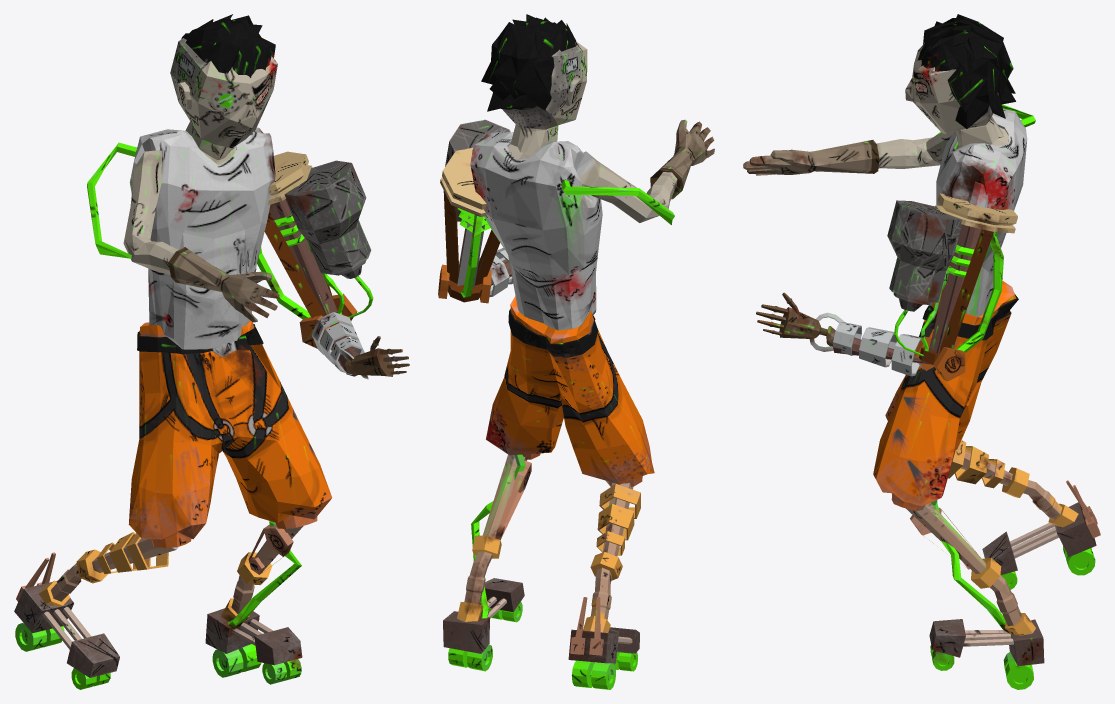
File: CyborgFINALAnimation_000016.obj
3 renders of one model, left to right at view 1: azimuth 30°, elevation 25°; view 2: azimuth 150°, elevation 25°; view 3: azimuth 270°, elevation 25°, orthographic. The views are drawn at different scales.
Parts seen in each view (by area): view 1: CyborgMesh_Cube.002; view 2: CyborgMesh_Cube.002; view 3: CyborgMesh_Cube.002.
Part boxes in pixels (x1,y1,x2,y2): CyborgMesh_Cube.002: (14, 14, 409, 689); CyborgMesh_Cube.002: (438, 14, 714, 689); CyborgMesh_Cube.002: (743, 14, 1100, 689).
Size of the model in its own units: 3.66 by 9.18 by 4.63.
